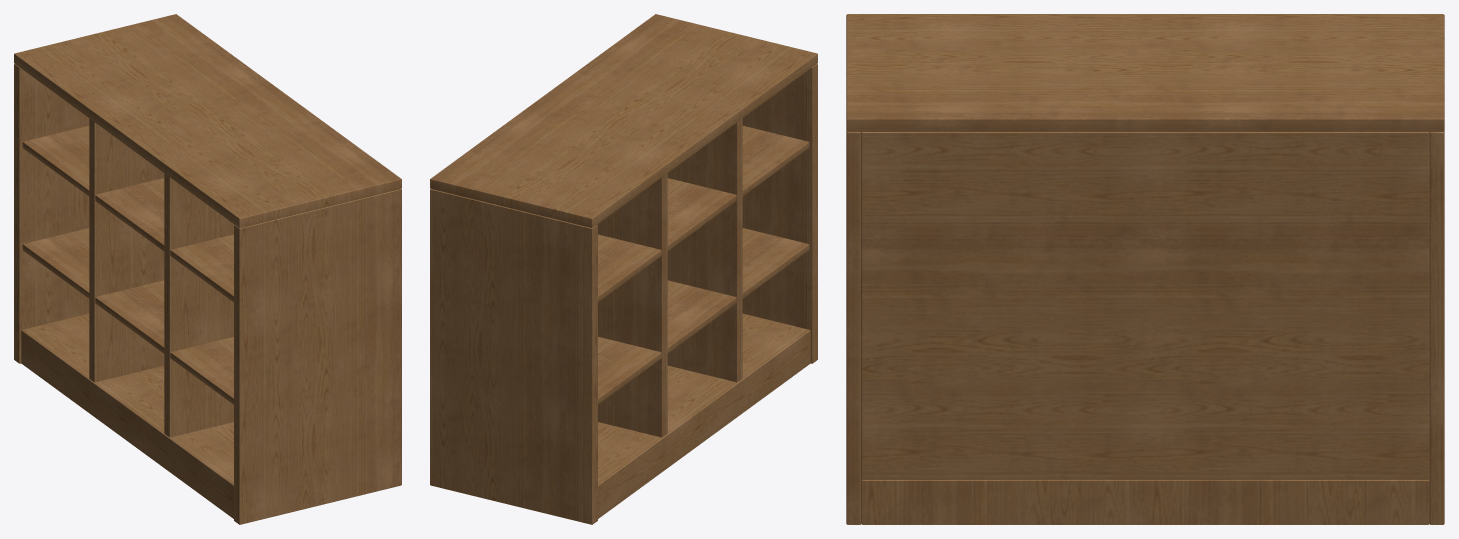
File: SM_RearShelves_01.fbx
The picture shows the model from 3 angles, left to right: view 1: azimuth 30°, elevation 25°; view 2: azimuth 150°, elevation 25°; view 3: azimuth 270°, elevation 25°; orthographic projection. The views are drawn at different scales.
Parts seen in each view (by area): view 1: SM_RearShelves_01_LOD0; view 2: SM_RearShelves_01_LOD0; view 3: SM_RearShelves_01_LOD0.
Part boxes in pixels (bbox=[...]): SM_RearShelves_01_LOD0: bbox=[14, 14, 401, 524]; SM_RearShelves_01_LOD0: bbox=[430, 14, 817, 524]; SM_RearShelves_01_LOD0: bbox=[846, 14, 1444, 524].
Bounding box in the file's own units: 50 × 120 × 90.
